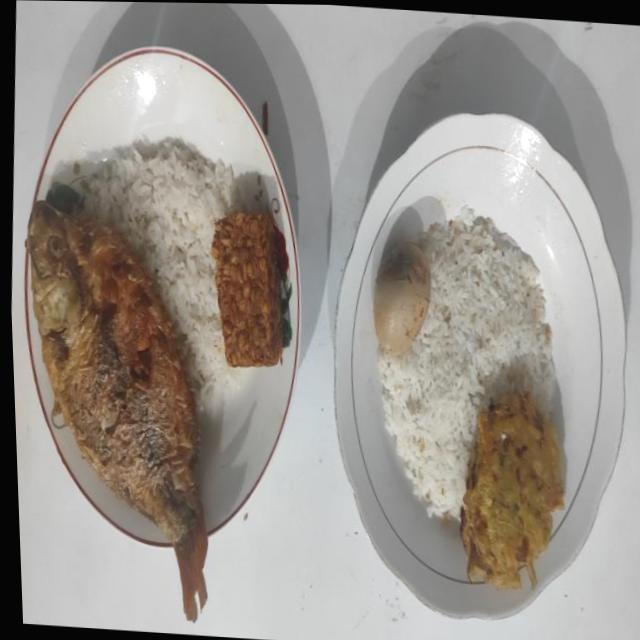ikan_mujair: (27, 202, 206, 620)
nasi_putih: (378, 207, 555, 518), (84, 138, 243, 415)
tempe_goreng: (212, 213, 282, 367)
